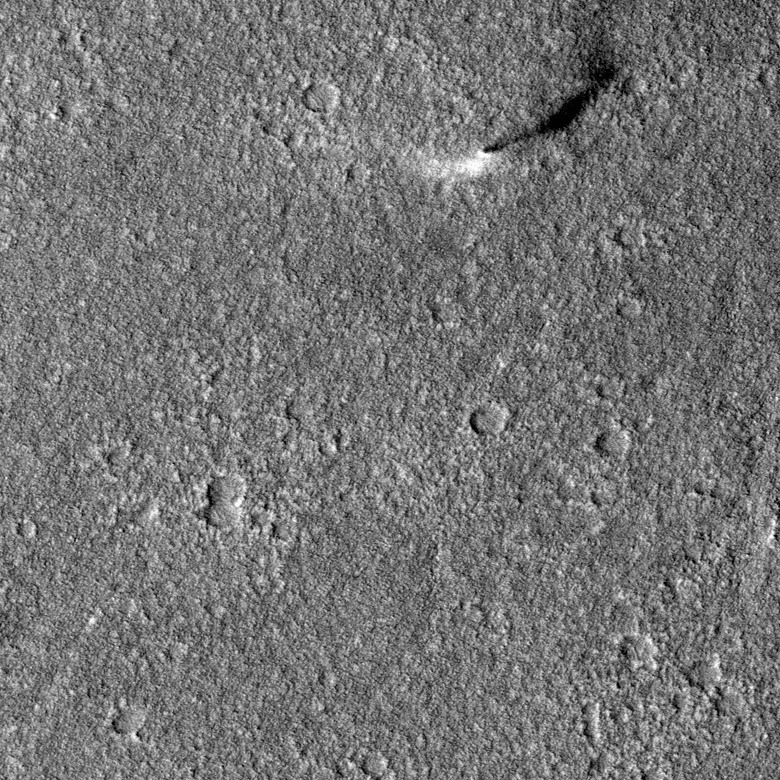dust_devil: (451, 60, 620, 180)
